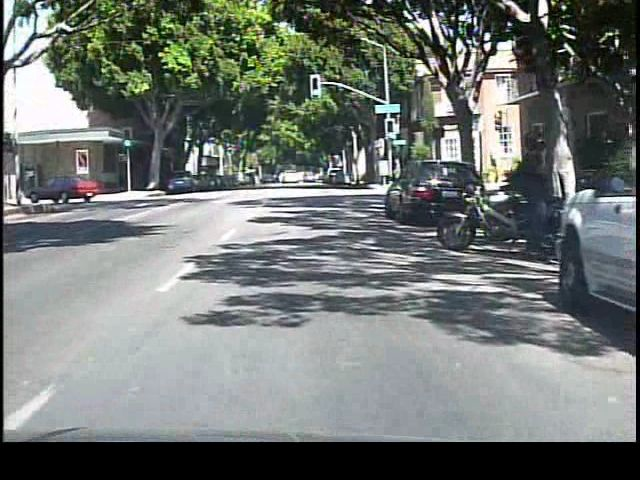person: (509, 126, 555, 267), (388, 154, 404, 190)
